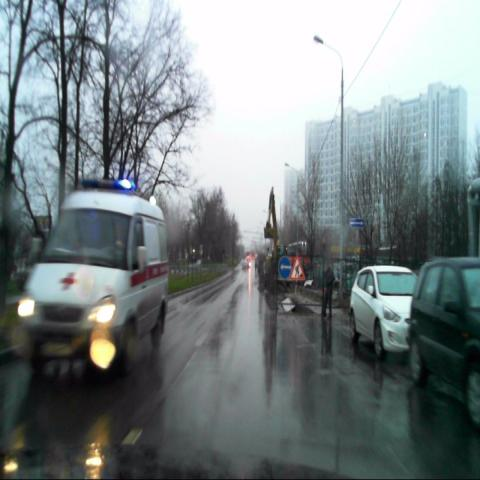1_25: (289, 256, 306, 280)
4_1_2_2: (278, 256, 292, 278)
